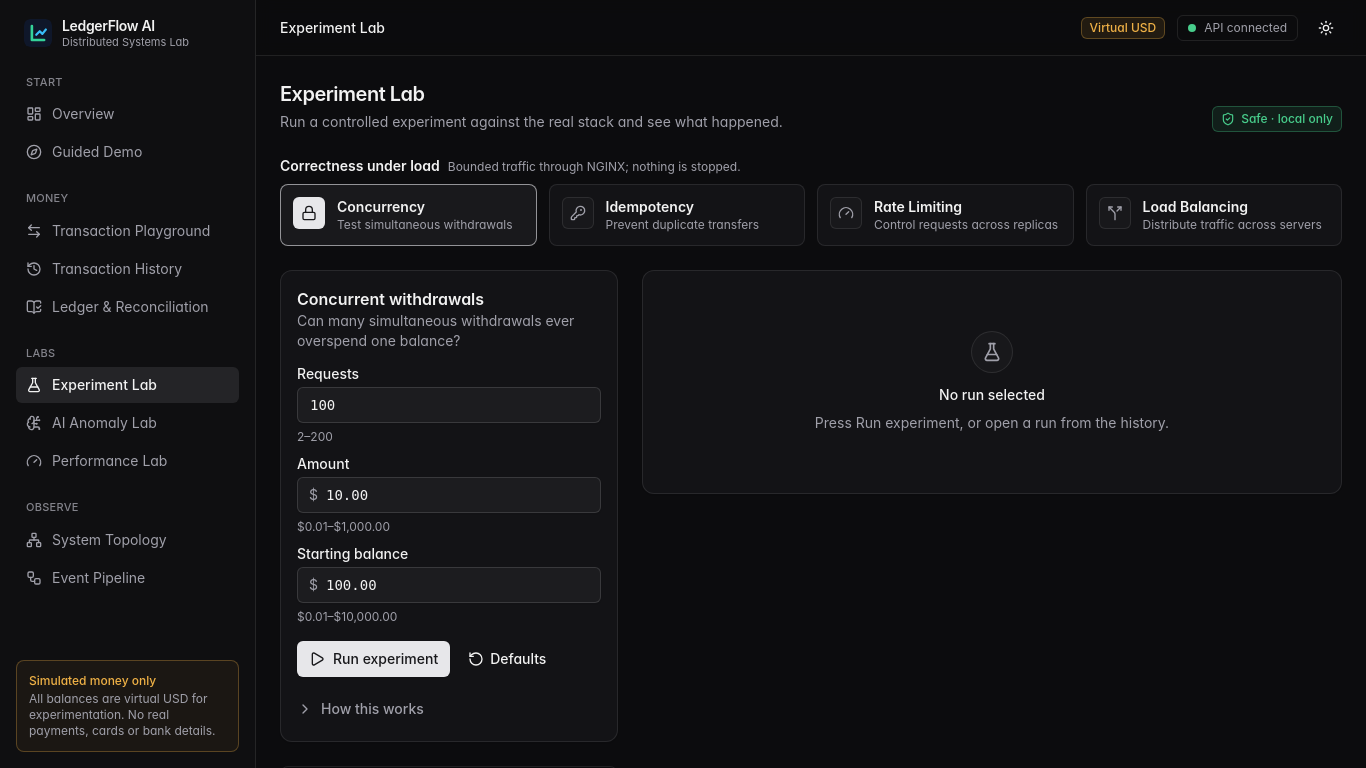
it: running an experiment › validates parameters locally and never sends an out-of-range run
Replace the text in the field labelled "Requests" with "500" at (449, 405), box 297,387 -> 601,423
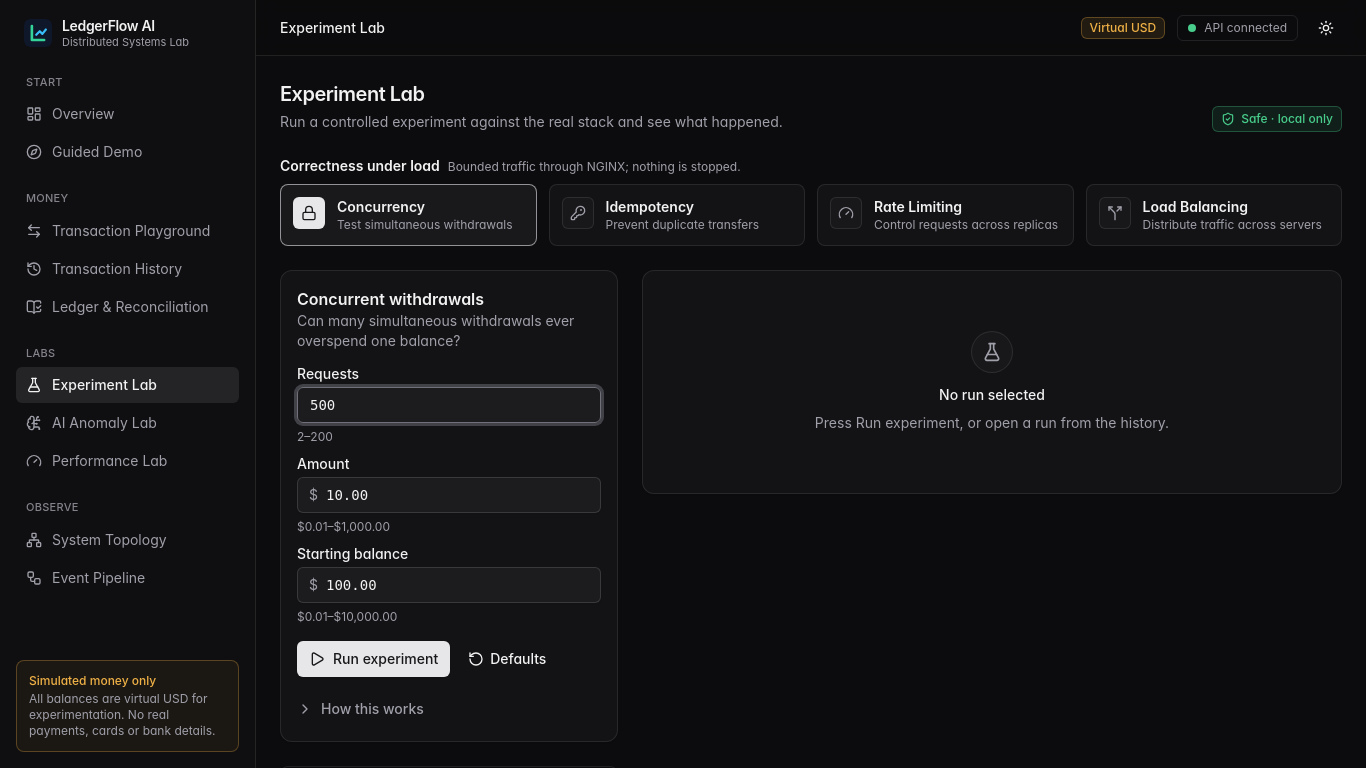
Replace the text in the field labelled "Amount" with "5000" at (449, 495), box 297,477 -> 601,513
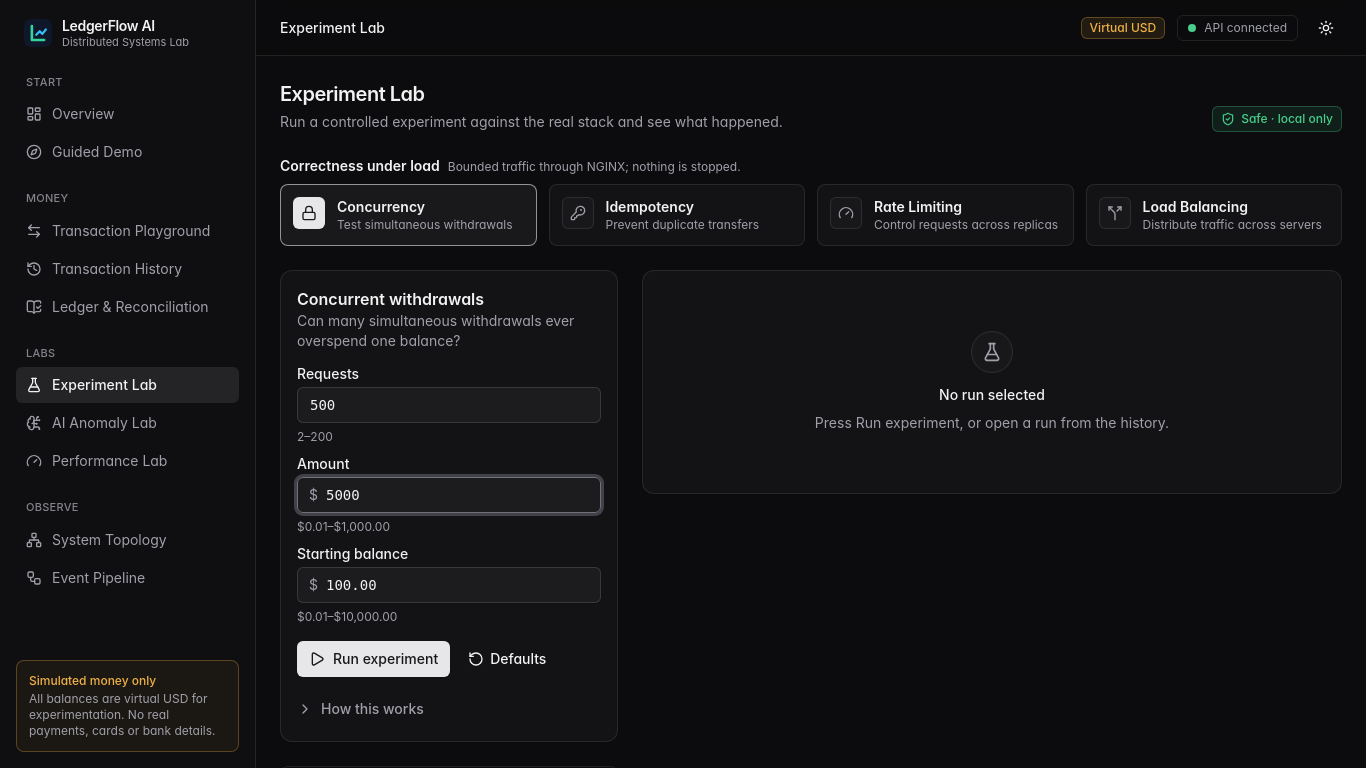
Click the button "Run experiment" at (374, 659), box 297,641 -> 450,677
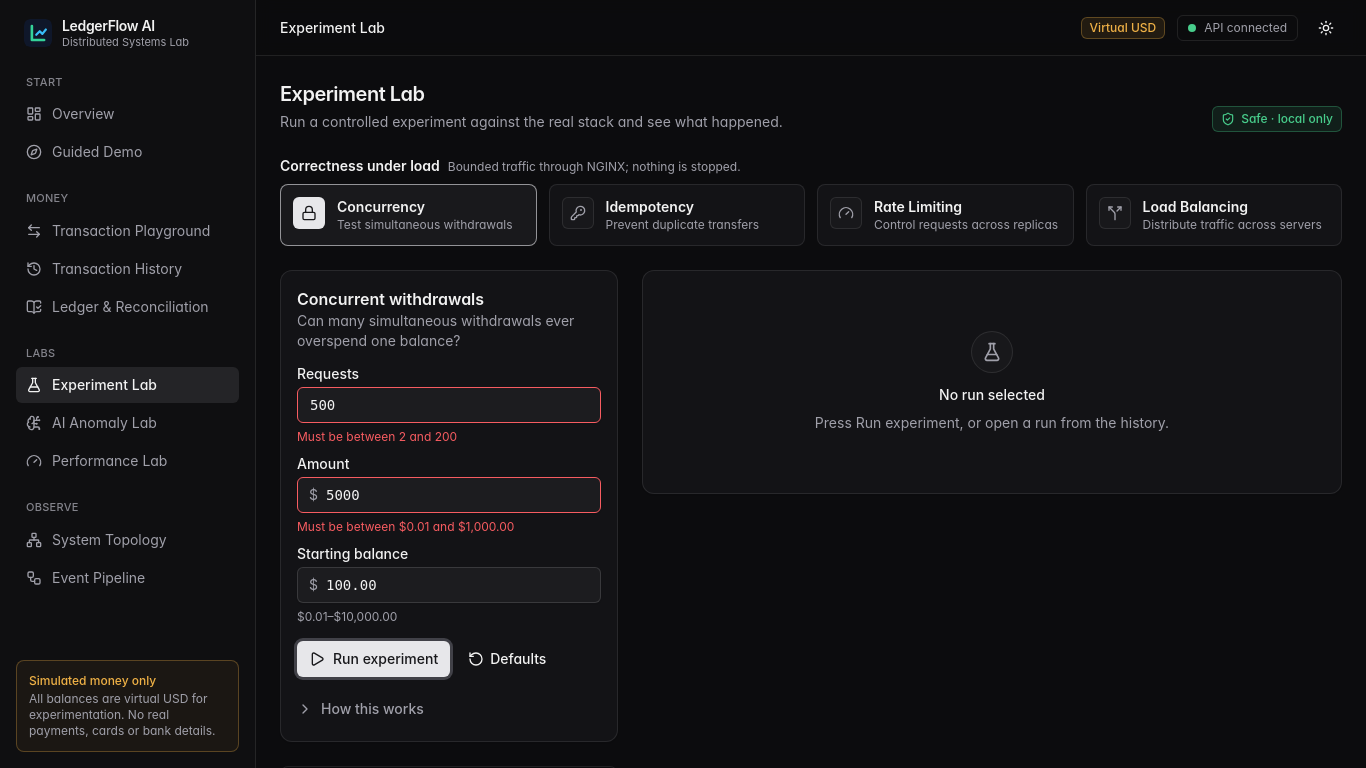
Result: the text "Must be between 2 and 200" is shown at 297,429 -> 457,444
Result: the text "Must be between $0.01 and $1,000.00" is shown at 297,519 -> 514,534
